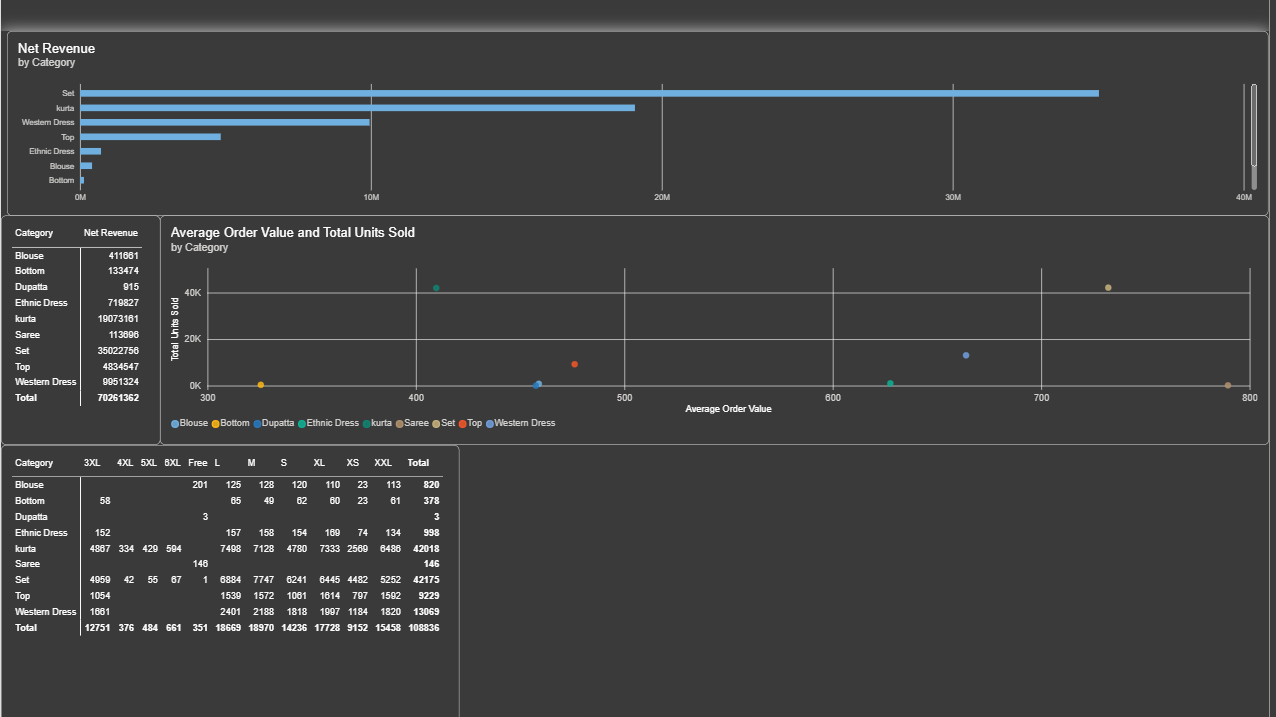

The page's visual inventory and layout, read from the dashboard file:
{"tool":"powerbi","page":{"name":"Product Performance","canvas":[1920,1080],"ordinal":2},"visuals":[{"type":"clusteredBarChart","fields":{"Category":["Amazon_Sales_Fact_Cleaned (1).Category"],"Y":["_Measures.Net Revenue"]},"box":[10,0,1910,280],"z":0},{"type":"pivotTable","fields":{"Rows":["Amazon_Sales_Fact_Cleaned (1).Category"],"Values":["_Measures.Net Revenue"]},"box":[0,279.4,241.2,347.1],"z":1000},{"type":"pivotTable","fields":{"Rows":["Amazon_Sales_Fact_Cleaned (1).Category"],"Columns":["Amazon_Sales_Fact_Cleaned (1).Size"],"Values":["_Measures.Total Units Sold"]},"box":[0,626.5,694.1,452.9],"z":2000},{"type":"scatterChart","fields":{"X":["_Measures.Average Order Value"],"Y":["_Measures.Total Units Sold"],"Series":["Amazon_Sales_Fact_Cleaned (1).Category"]},"box":[241.2,279.4,1679.4,347.1],"z":3000}]}

Visuals, with their boxes in screenshot pixels (x1, y1, x2, y2), scaled from the page's 1920x1080 canvas onto the 1276x717 screenshot:
clusteredBarChart - Amazon_Sales_Fact_Cleaned (1).Category x _Measures.Net Revenue: pyautogui.locateOnScreen(7, 0, 1275, 186)
pivotTable - Amazon_Sales_Fact_Cleaned (1).Category x _Measures.Net Revenue: pyautogui.locateOnScreen(0, 185, 160, 416)
pivotTable - Amazon_Sales_Fact_Cleaned (1).Category x Amazon_Sales_Fact_Cleaned (1).Size: pyautogui.locateOnScreen(0, 416, 461, 716)
scatterChart - _Measures.Average Order Value x _Measures.Total Units Sold: pyautogui.locateOnScreen(160, 185, 1275, 416)
